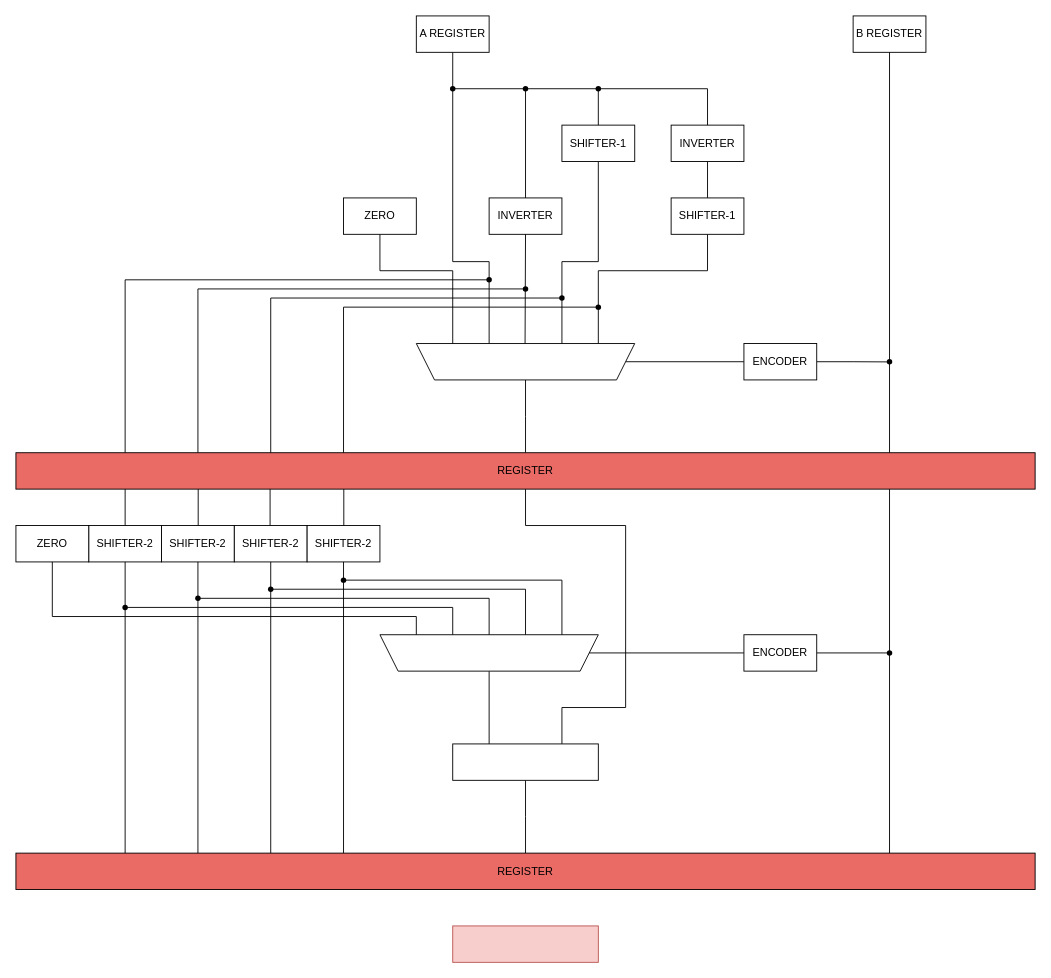
This 1051x978 diagram has some shape labels left out. The shapes that lost their labels are listed below. From the top down, each one's box as (x1, y1, x2, y2) in pixels, then its label:
(452, 743, 598, 780): SUM
(452, 925, 598, 962): REPEAT
